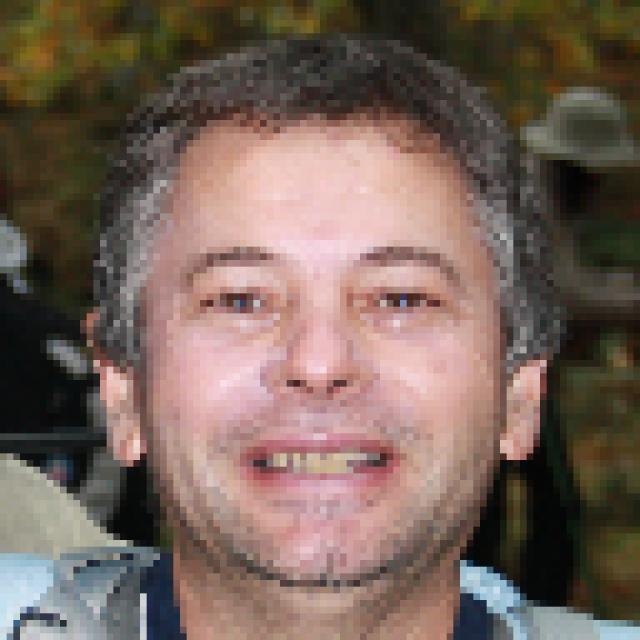happy: (95, 85, 482, 640)
